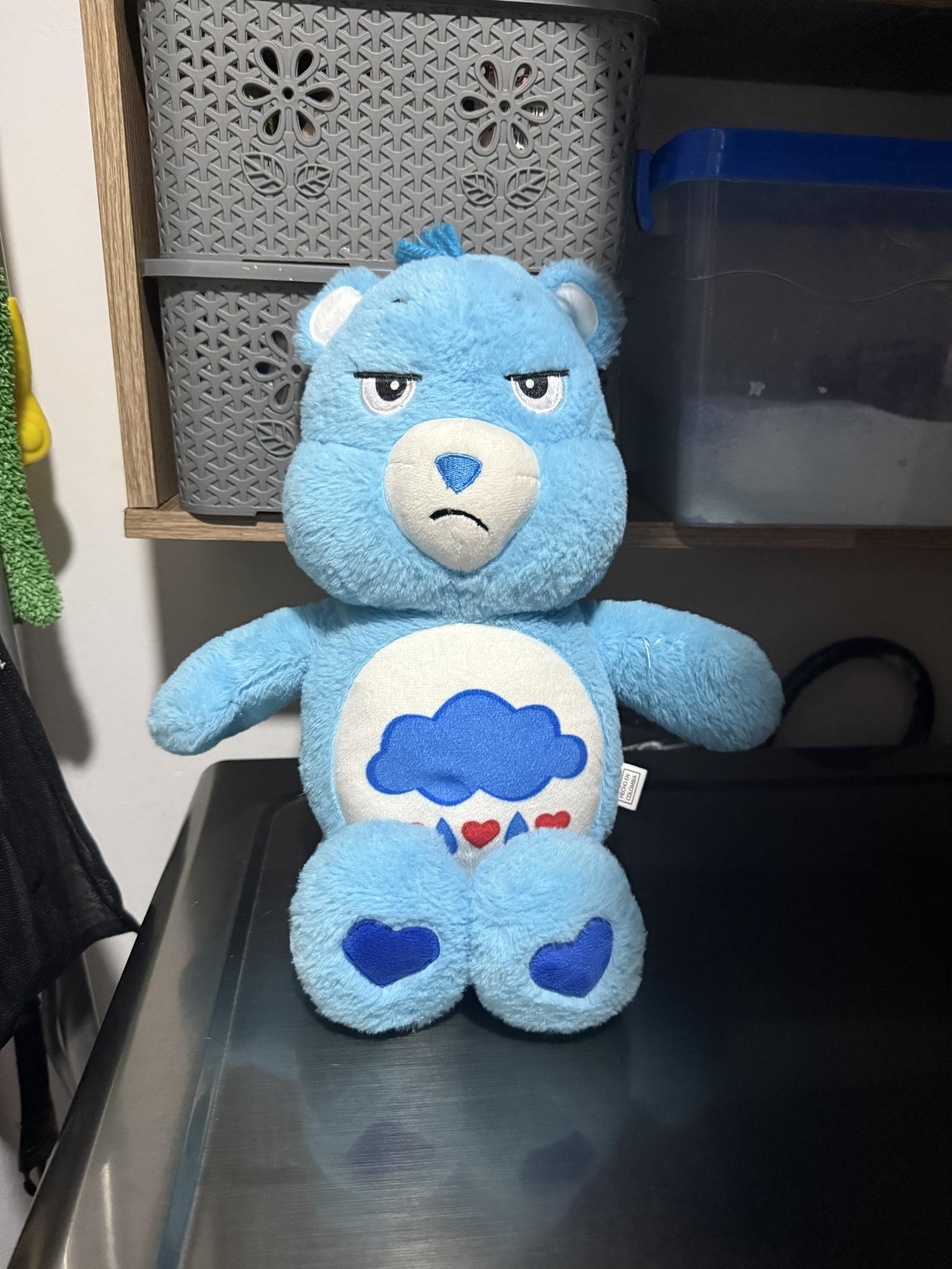peluche_Juan Jose: (142, 231, 798, 1042)
